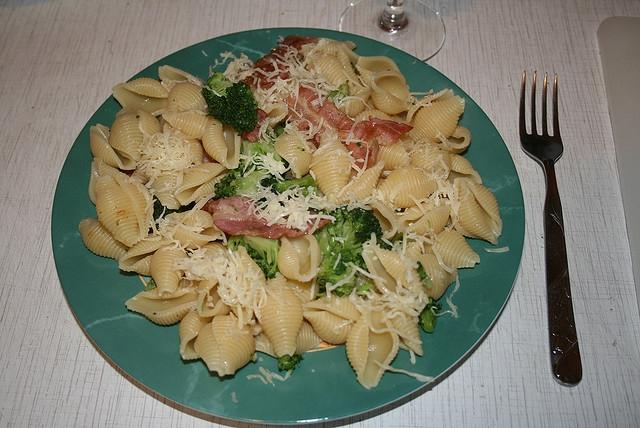broccoli: (314, 207, 382, 262), (200, 81, 259, 136), (227, 234, 280, 282), (318, 248, 358, 297), (213, 169, 270, 201), (240, 137, 290, 169), (418, 296, 442, 333), (328, 80, 350, 103), (416, 261, 434, 289), (278, 354, 304, 372)
